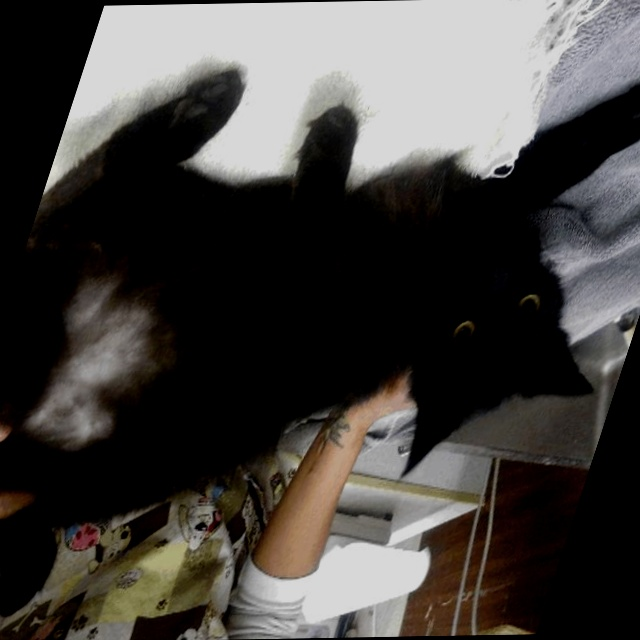hairloss: (19, 275, 170, 446)
